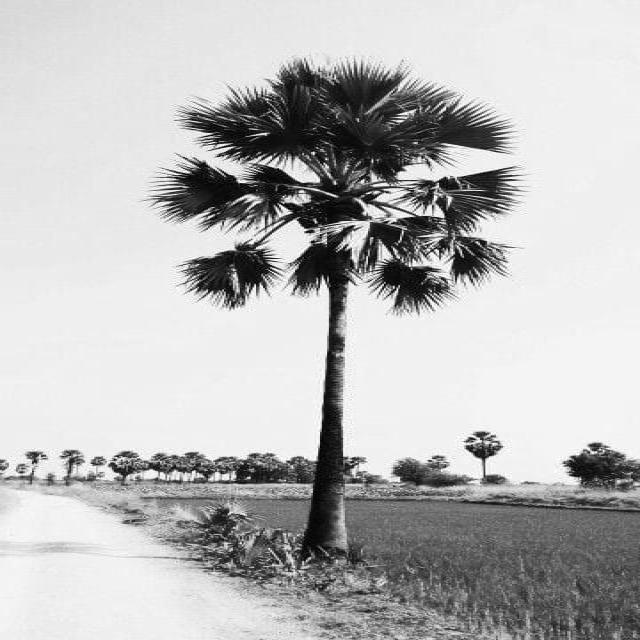Plam-Tree: (142, 54, 512, 594), (223, 97, 486, 305)
